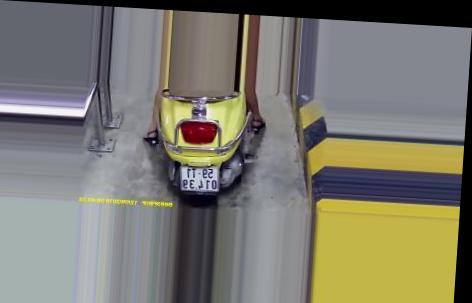License_Plate: (176, 162, 225, 197)
